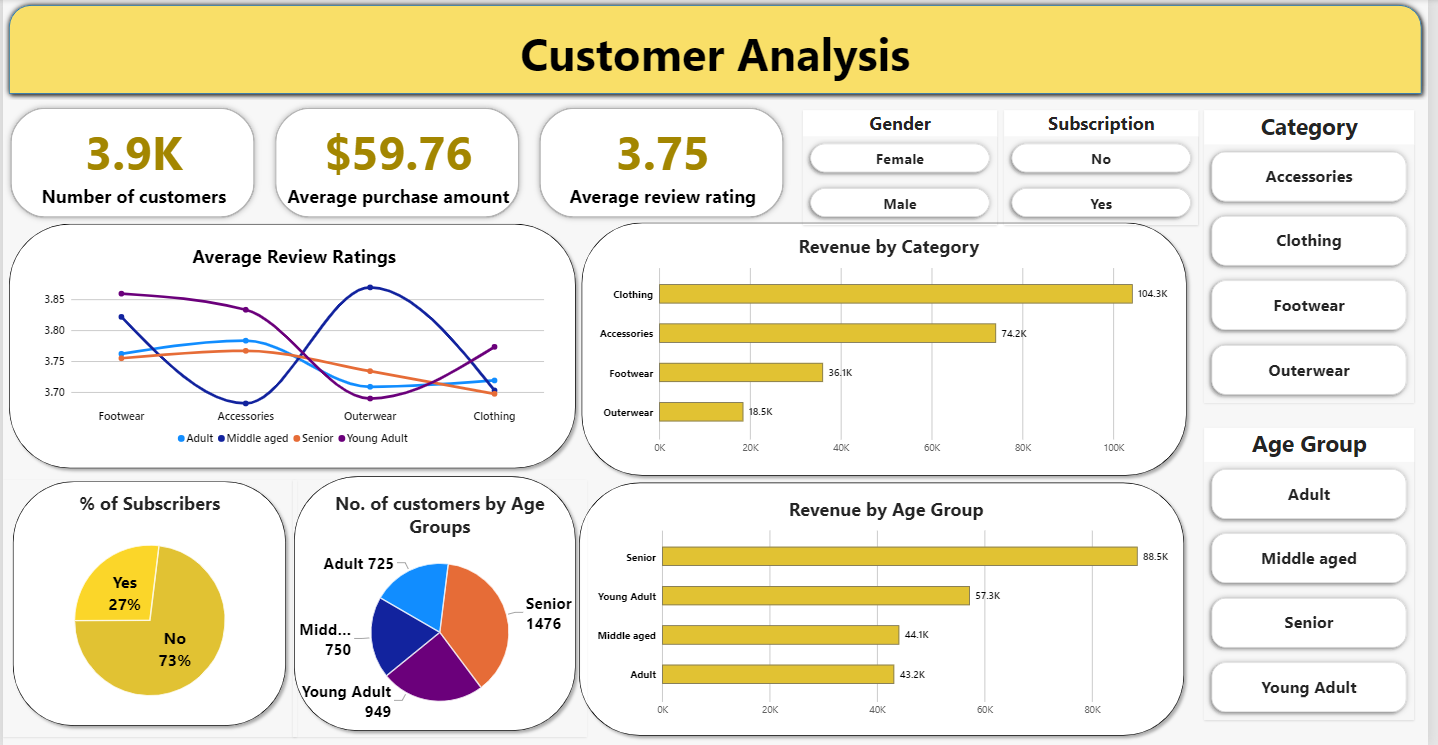

Layout of this report page (visuals, bound fields, positions):
{"tool":"powerbi","page":{"name":"Page 1","canvas":[2100,1100],"ordinal":0},"visuals":[{"type":"cardVisual","fields":{"Data":["public customer.Number of customers","public customer.Average purchase amount","public customer.Average review rating"]},"box":[0,148.5,1163.2,184.1],"z":0},{"type":"shape","box":[0,0,2100.4,148.5],"z":1000},{"type":"shape","box":[844.4,321.3,910,391.2],"z":2000},{"type":"shape","box":[0,322.2,853.6,378.7],"z":3000},{"type":"shape","box":[6.3,702.9,420.5,378.7],"z":4000},{"type":"advancedSlicerVisual","fields":{"Values":["public customer.gender"]},"box":[1179.9,163.2,286.6,169.5],"z":5000},{"type":"advancedSlicerVisual","title":"Category","fields":{"Values":["public customer.category"]},"box":[1772,163.2,309.6,431],"z":6000},{"type":"advancedSlicerVisual","title":"Subscription","fields":{"Values":["public customer.subscription_status"]},"box":[1475.9,163.2,286.6,169.5],"z":7000},{"type":"advancedSlicerVisual","title":"Age Group","fields":{"Values":["public customer.age_group"]},"box":[1772,631.8,309.6,431],"z":8000},{"type":"clusteredBarChart","title":"Revenue by Category","fields":{"Category":["public customer.category"],"Y":["Sum(public customer.purchase_amount)"]},"box":[863.2,331.8,887,359.8],"z":9000},{"type":"shape","box":[841,703.7,910,391.2],"z":10000},{"type":"clusteredBarChart","title":"Revenue by Age Group","fields":{"Category":["public customer.age_group"],"Y":["Sum(public customer.purchase_amount)"]},"box":[859,718.8,887,359.8],"z":11000},{"type":"pieChart","title":"% of Subscribers","fields":{"Category":["public customer.subscription_status"],"Y":["Count(public customer.customer_id)"]},"box":[0,709.2,433.1,378.7],"z":12000},{"type":"shape","box":[420.5,694.6,433.1,393.3],"z":13000},{"type":"pieChart","title":"No. of customers by Age Groups","fields":{"Category":["public customer.age_group"],"Y":["Count(public customer.customer_id)"]},"box":[426.8,709.2,433.1,378.7],"z":14000},{"type":"lineChart","title":"Average Review Ratings","fields":{"Category":["public customer.category"],"Series":["public customer.age_group"],"Y":["public customer.Average review rating"]},"box":[43.9,347.3,769.9,332.6],"z":15000}]}

Visuals, with their boxes in screenshot pixels (x1, y1, x2, y2), scaled from the page's 2100x1100 canvas onto the 1438x745 screenshot:
cardVisual - public customer.Number of customers x public customer.Average purchase amount: 0, 101, 797, 225
shape: 0, 0, 1437, 101
shape: 578, 218, 1201, 483
shape: 0, 218, 585, 475
shape: 4, 476, 292, 733
advancedSlicerVisual - public customer.gender: 808, 111, 1004, 225
"Category" advancedSlicerVisual: 1213, 111, 1425, 402
"Subscription" advancedSlicerVisual: 1011, 111, 1207, 225
"Age Group" advancedSlicerVisual: 1213, 428, 1425, 720
"Revenue by Category" clusteredBarChart: 591, 225, 1198, 468
shape: 576, 477, 1199, 742
"Revenue by Age Group" clusteredBarChart: 588, 487, 1196, 731
"% of Subscribers" pieChart: 0, 480, 297, 737
shape: 288, 470, 585, 737
"No. of customers by Age Groups" pieChart: 292, 480, 589, 737
"Average Review Ratings" lineChart: 30, 235, 557, 460
